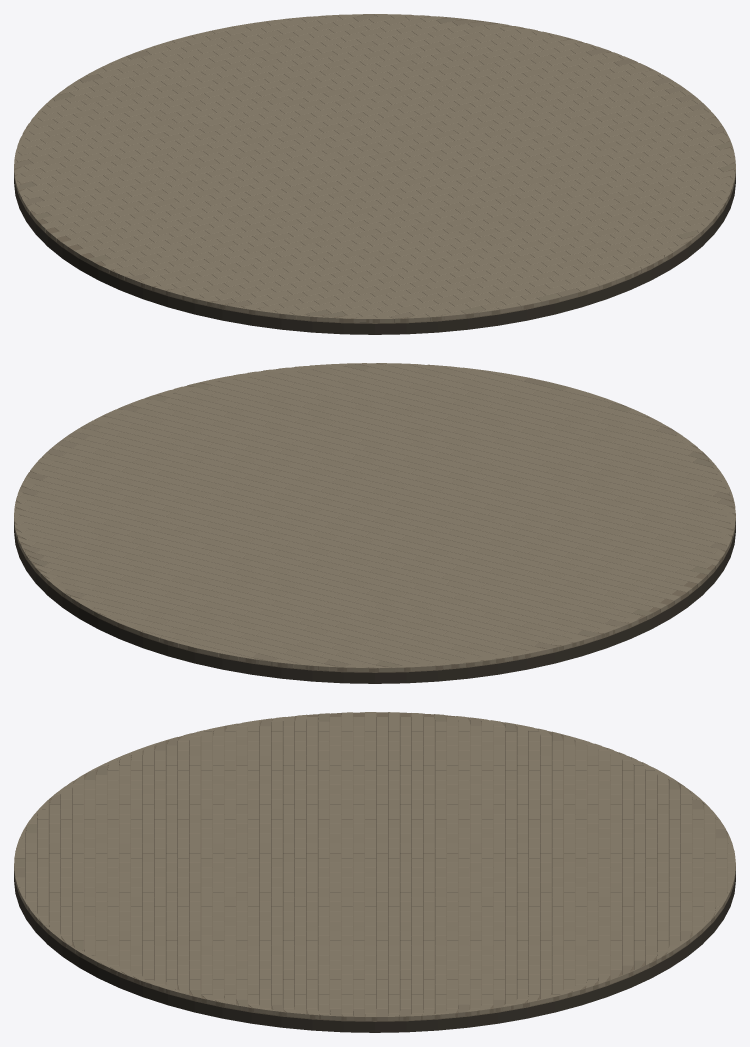
The model's file is arena_floor.glb.
3 renders of one model, top to bottom at view 1: azimuth 30°, elevation 25°; view 2: azimuth 150°, elevation 25°; view 3: azimuth 270°, elevation 25°, orthographic.
Visible parts, largest first — view 1: ArenaFloor_stone_floor, Soffit; view 2: ArenaFloor_stone_floor, Soffit; view 3: ArenaFloor_stone_floor, Soffit.
Boxes of the visible parts, x1,y1,x2,y2 form: ArenaFloor_stone_floor: (14, 14, 735, 323); Soffit: (14, 173, 735, 334); ArenaFloor_stone_floor: (14, 363, 735, 672); Soffit: (14, 522, 735, 683); ArenaFloor_stone_floor: (14, 712, 735, 1021); Soffit: (14, 871, 735, 1032).
Bounding box in the file's own units: 16.54 × 0.4 × 16.54.
